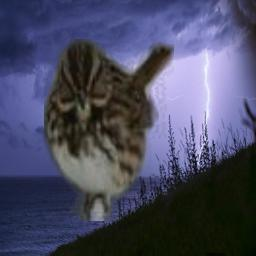Sparrow: (44, 39, 174, 221)
